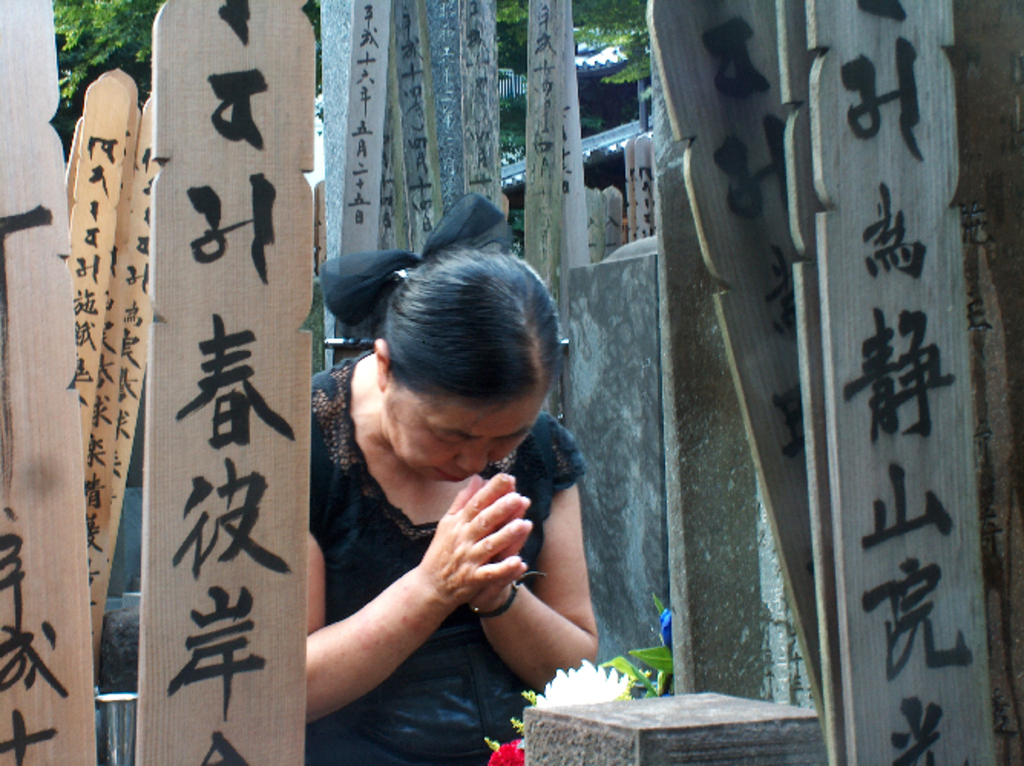Human_hand: (340, 470, 533, 688), (469, 476, 529, 611)
